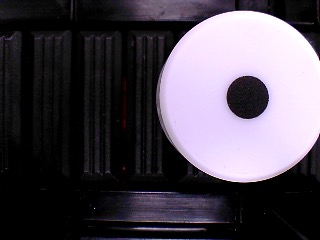BOHO: (160, 10, 320, 183)
